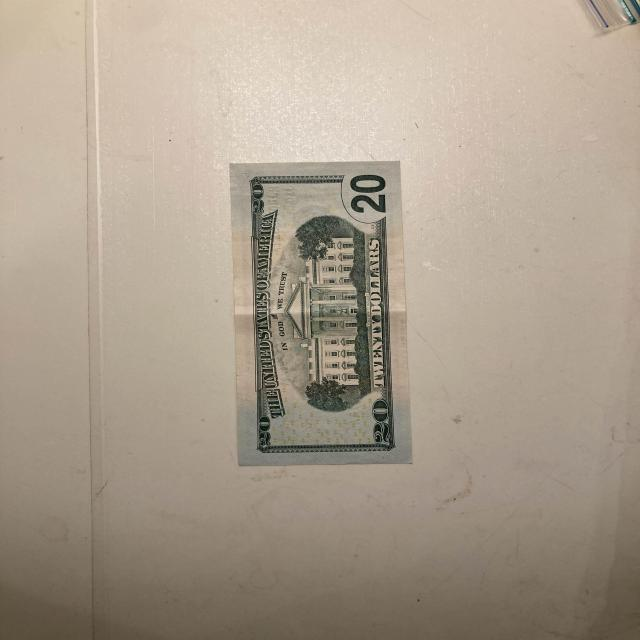twenty: (229, 161, 415, 466)
